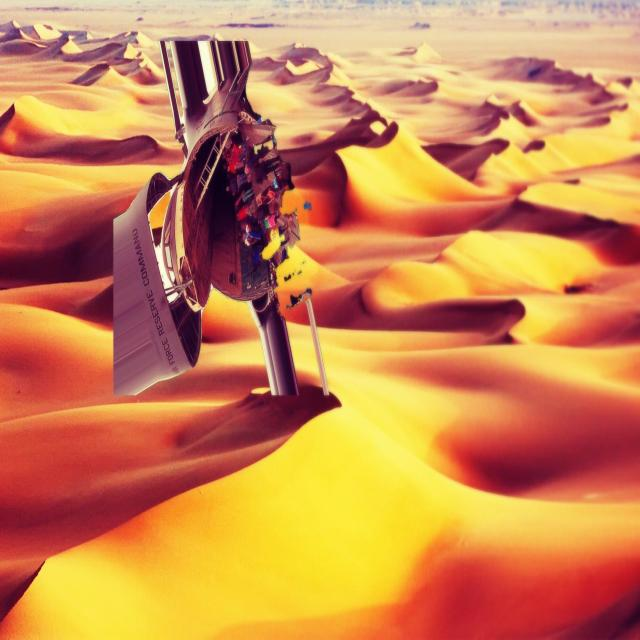airplane: (112, 39, 331, 397)
